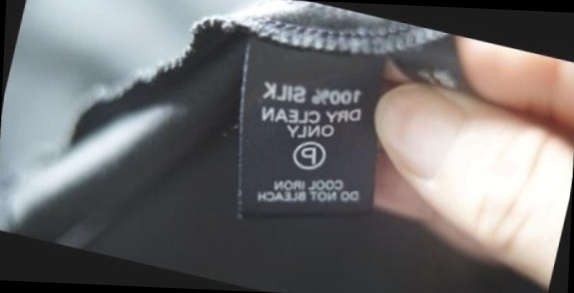dry_clean_any_solvent_except_trichloroethylene: (285, 133, 332, 176)
